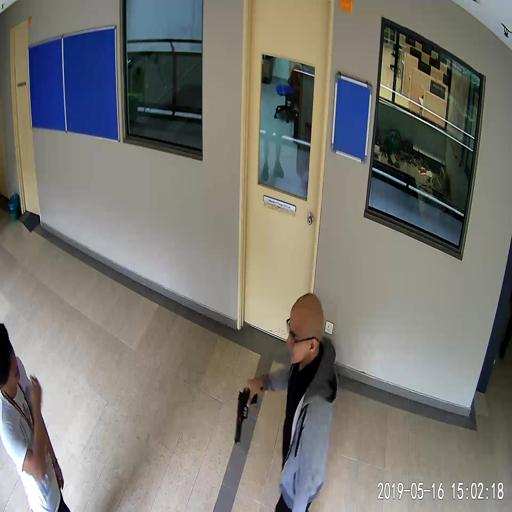pistol: (234, 385, 257, 442)
